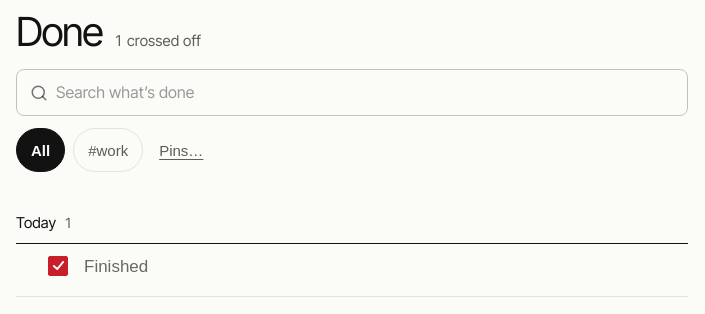
Test case: Done › searches what is done
In the search field named "search done tasks": (372, 92) [56,69,688,116], type "zzz"
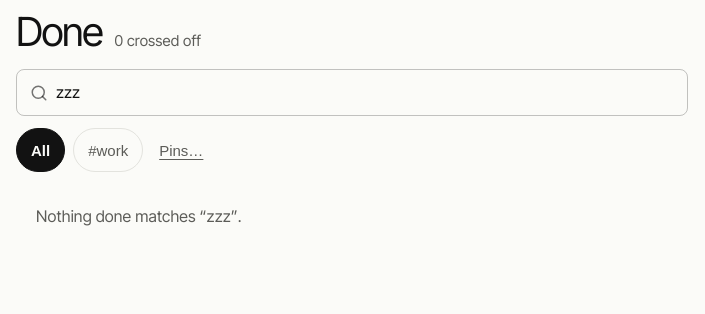
Check: the button "Finished" is gone
Check: the text "Nothing done matches “zzz”." is shown, box [36,206,242,226]
